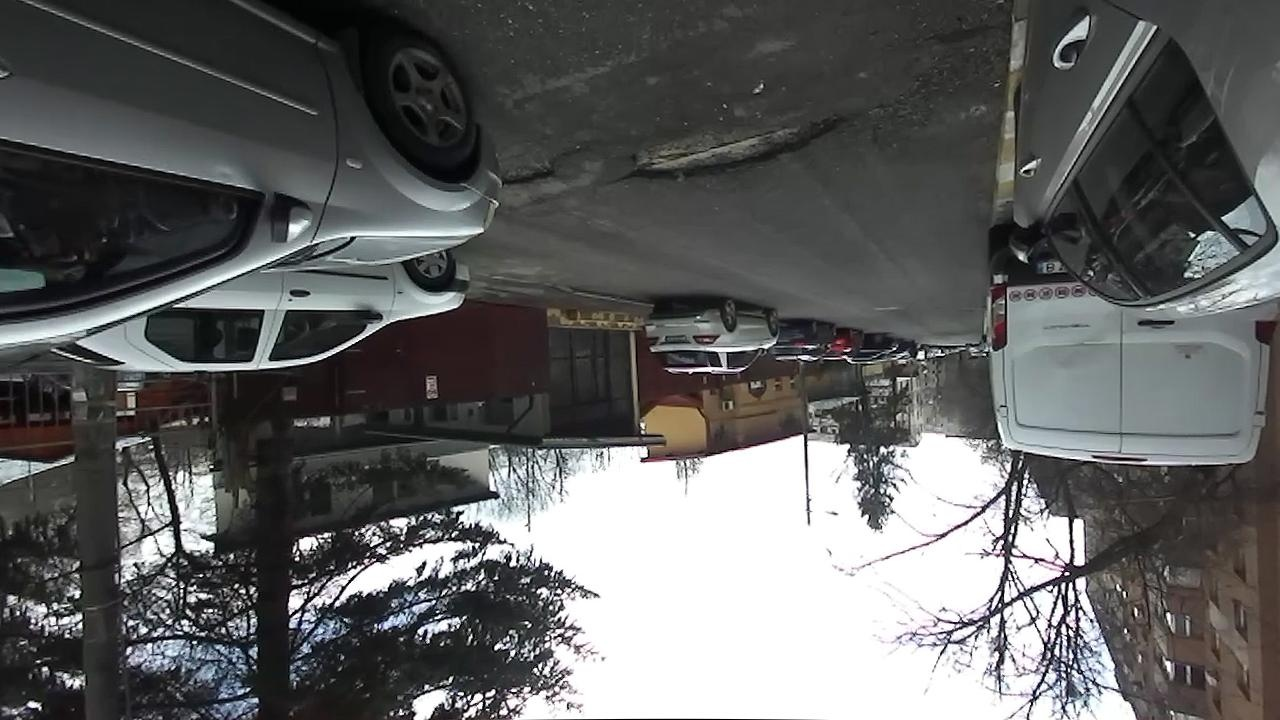pothole: (611, 103, 864, 187), (500, 150, 566, 192)
